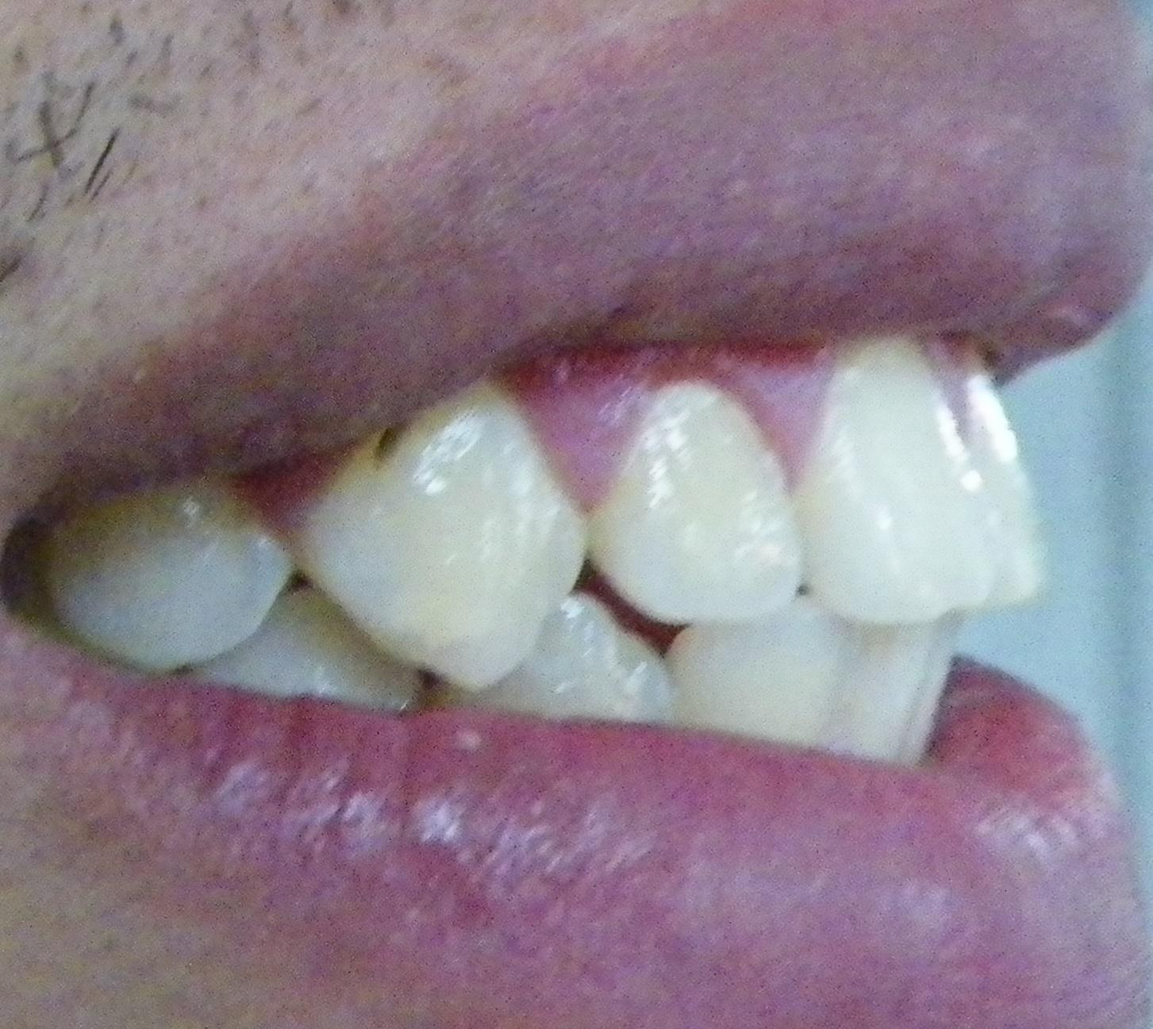Misaligned tooth: (283, 391, 593, 688)
